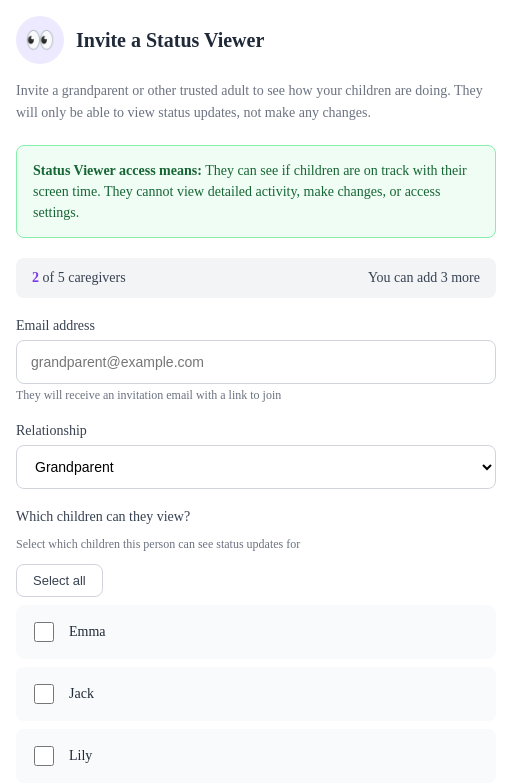
Test: CaregiverInviteForm › Child Selection (AC5) › select all button selects all children
Step 1. Click the button with test id "select-all-button" → (59, 580), box [16,564,103,597]
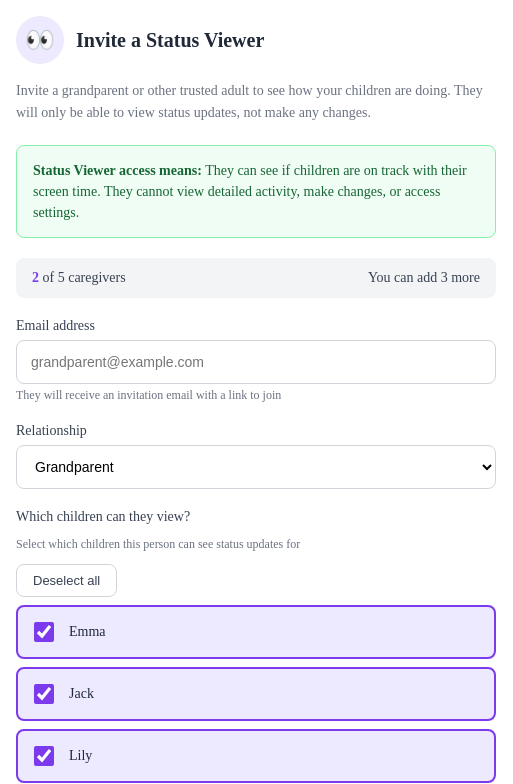
Check: the checkbox with test id "child-checkbox-child-1" is checked, box [34,622,54,642]
Check: the checkbox with test id "child-checkbox-child-2" is checked, box [34,684,54,704]
Check: the checkbox with test id "child-checkbox-child-3" is checked, box [34,746,54,766]
